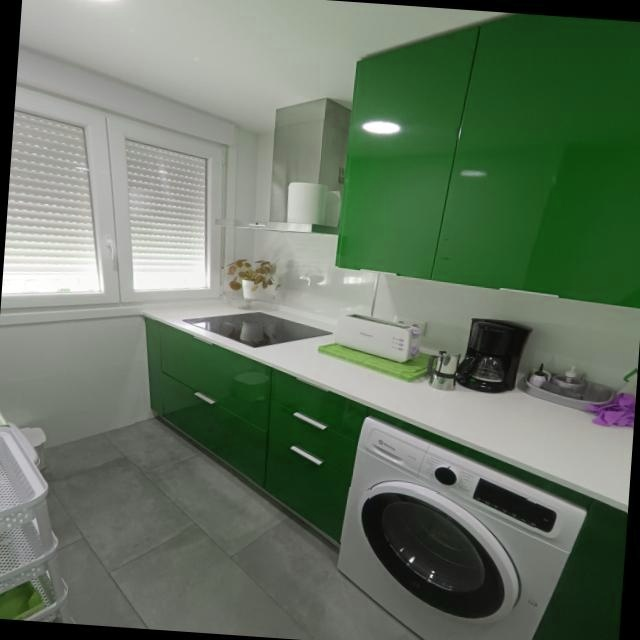cabinet: (334, 13, 640, 309), (144, 319, 375, 542), (533, 501, 626, 640)
countertop: (143, 300, 633, 506)
sofa: (182, 312, 332, 349)
